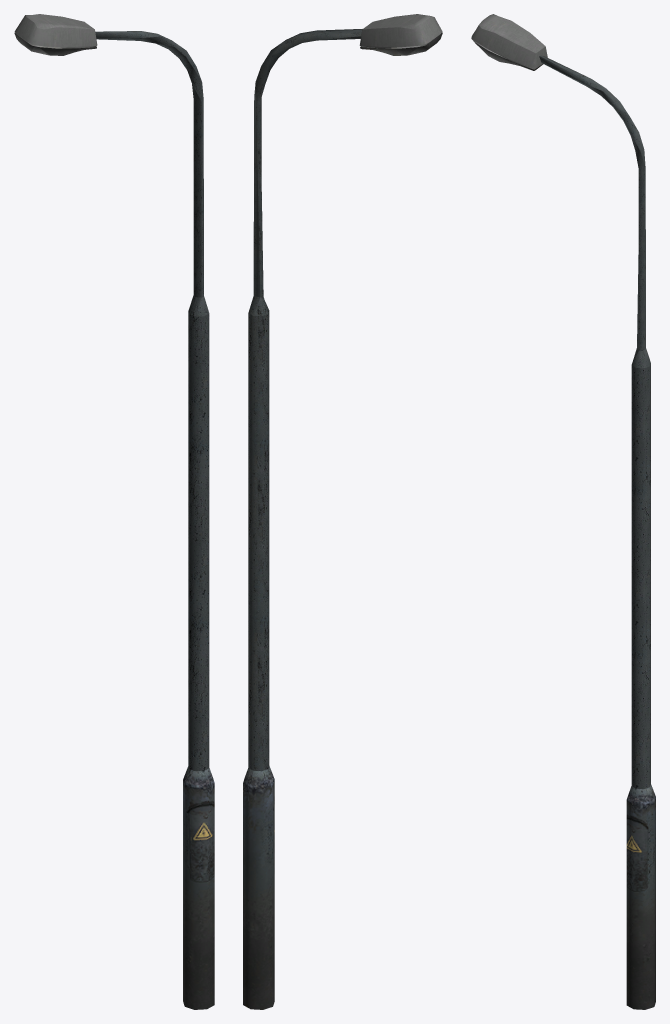
Rendered from fonar1.FBX.
3 views of the same model, side by side, from view 1: azimuth 30°, elevation 25°; view 2: azimuth 150°, elevation 25°; view 3: azimuth 330°, elevation 25° (orthographic). The views are drawn at different scales.
Visible parts, largest first — view 1: polySurface1504; view 2: polySurface1504; view 3: polySurface1504.
Boxes of the visible parts, box(x1,y1,x2,y2) form: polySurface1504: box(14, 14, 214, 1009); polySurface1504: box(243, 14, 442, 1009); polySurface1504: box(471, 14, 655, 1009).
Size of the model in its own units: 0.6375 by 3.27 by 0.1349.
